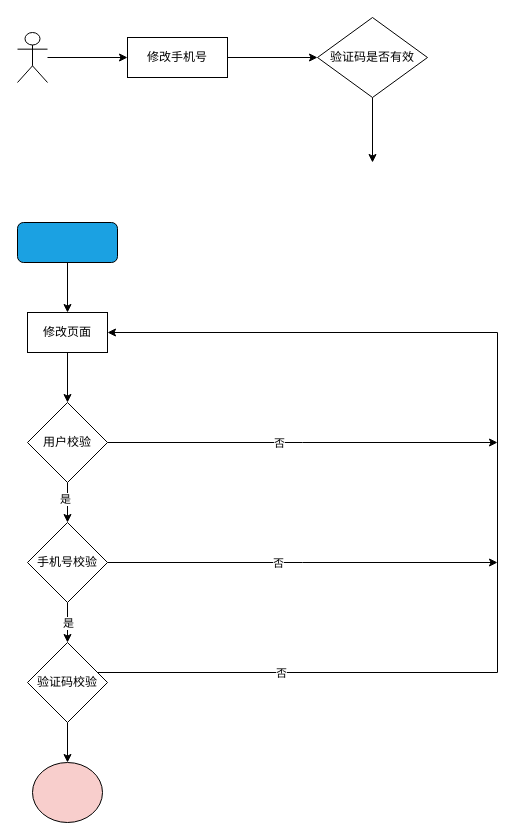
This 523x840 diagram has some shape labels left out. Here are the shapes that lost their labels. From the top down, the box of each, then its label:
(16, 32, 48, 82): 用户
(16, 222, 118, 262): 开始
(32, 762, 102, 822): 结束
